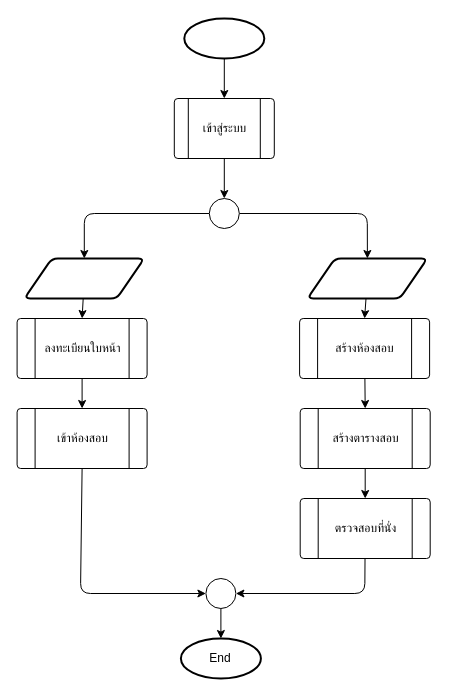
Some shapes in this 449 by 696 pixel diagram are drawn without their labels. Here are the shapes that lost their labels. From the top down, the box of each, then its label:
(183, 17, 265, 59): Start
(23, 257, 145, 299): นักศึกษา
(306, 257, 428, 299): อาจารย์
